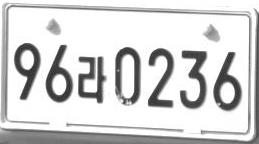0: (113, 46, 141, 106)
2: (146, 47, 174, 108)
3: (179, 50, 207, 109)
6: (212, 52, 242, 111), (44, 44, 73, 103)
9: (13, 41, 41, 100)
라: (77, 55, 107, 103)
